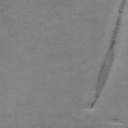finishing roll printing: (90, 0, 126, 110)
